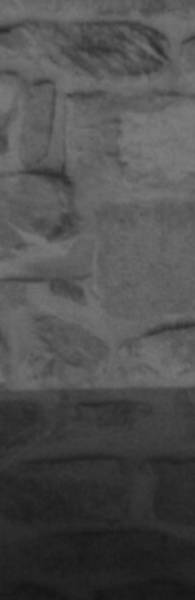water: (0, 390, 195, 600)
